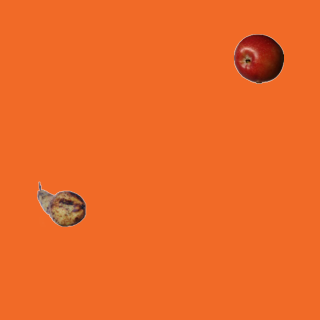Apple Braeburn: (233, 33, 283, 83)
Pear Abate: (36, 179, 86, 229)
